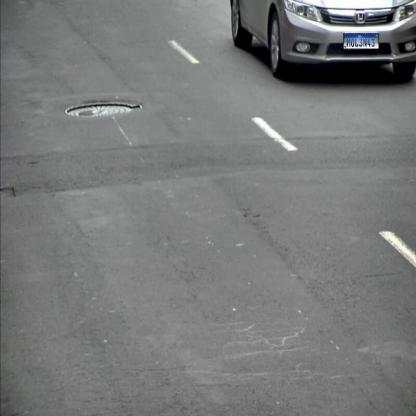PlacaM: (343, 34, 379, 50)
